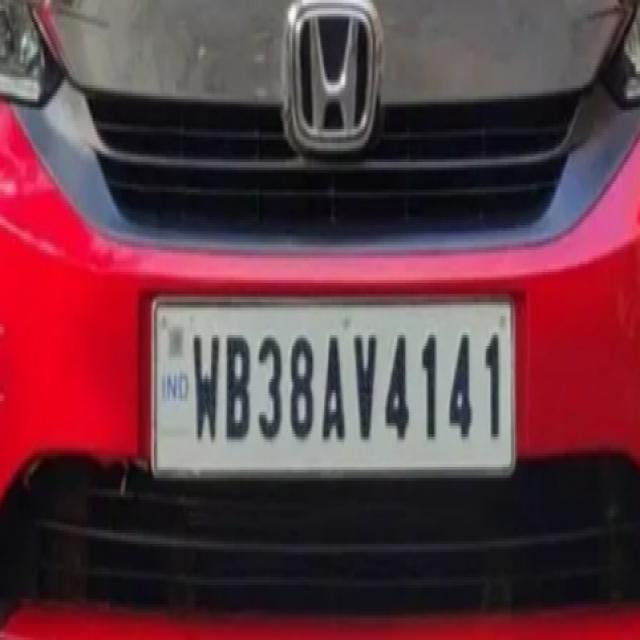1: (482, 322, 509, 459), (417, 324, 440, 452)
3: (255, 331, 284, 448)
4: (446, 319, 480, 440), (384, 320, 413, 454)
8: (287, 326, 319, 446)
A: (322, 330, 346, 445)
B: (222, 318, 255, 453)
V: (348, 324, 380, 456)
W: (186, 319, 223, 444)
